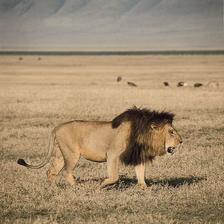Lion: (18, 103, 184, 190)
